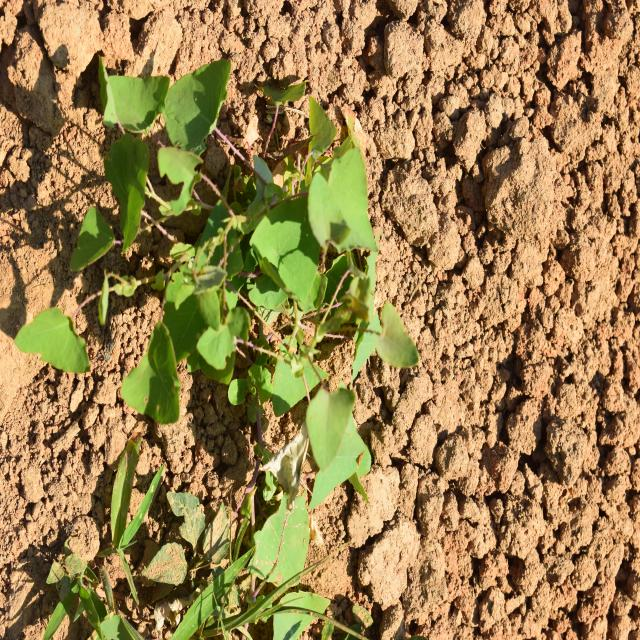Asiatic_Smartweed: (39, 30, 234, 443), (227, 105, 400, 491)
